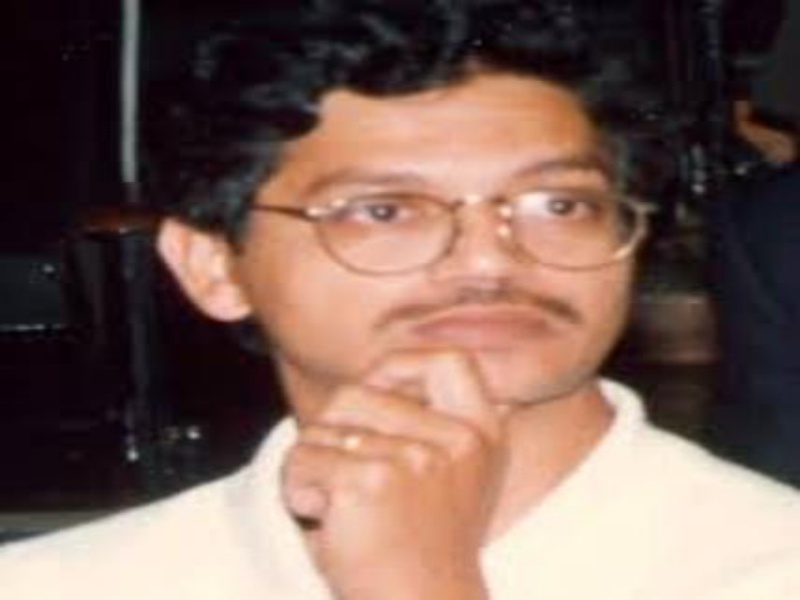TsisyArotava: (129, 1, 734, 475)
